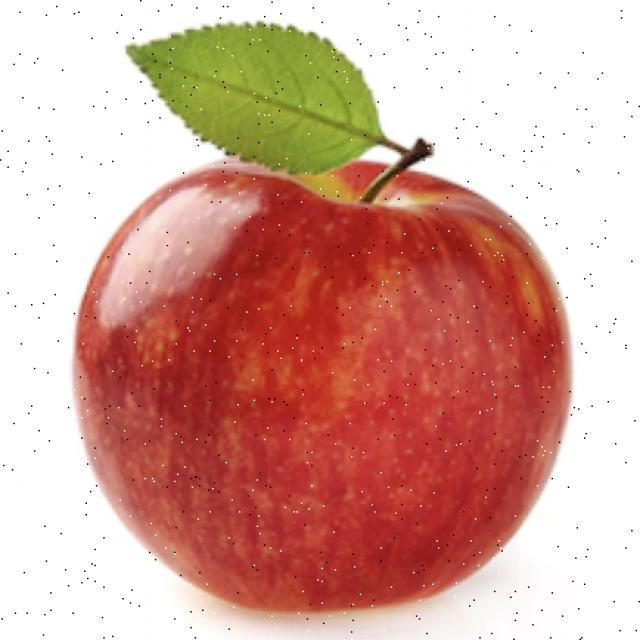Fresh Apple: (98, 158, 552, 615)
